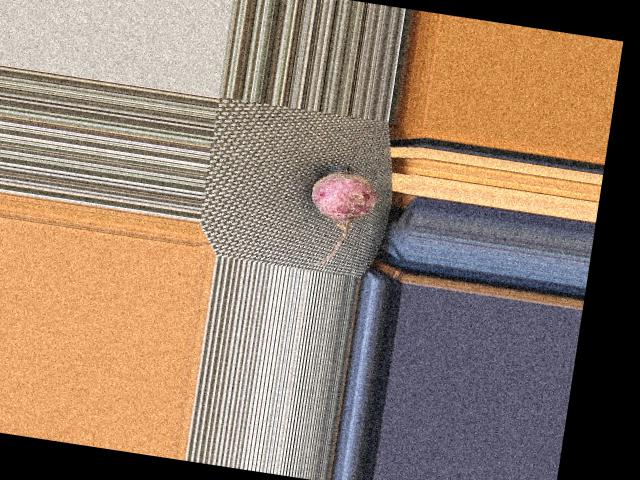beet: (302, 160, 382, 270)
